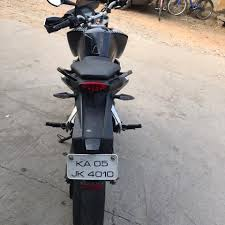doublelinenumberplate: (66, 153, 118, 181)
